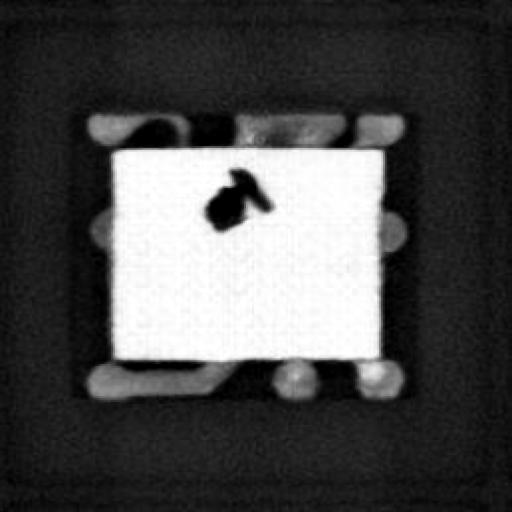DIE_INK: (198, 165, 270, 229)
